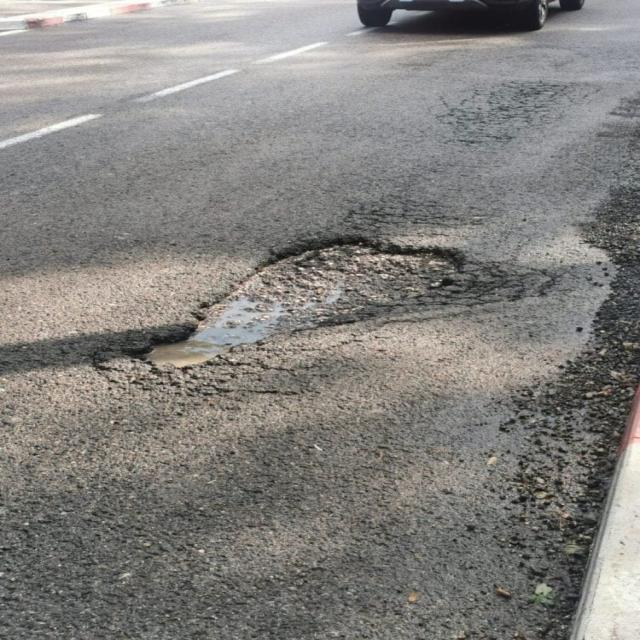major_pothole: (138, 234, 470, 369)
